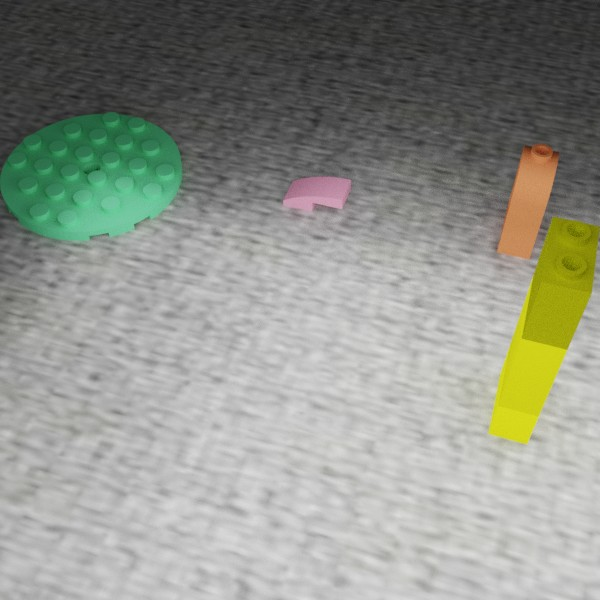lego: (488, 216, 600, 444), (0, 112, 182, 240), (496, 143, 559, 259), (283, 176, 351, 211)
